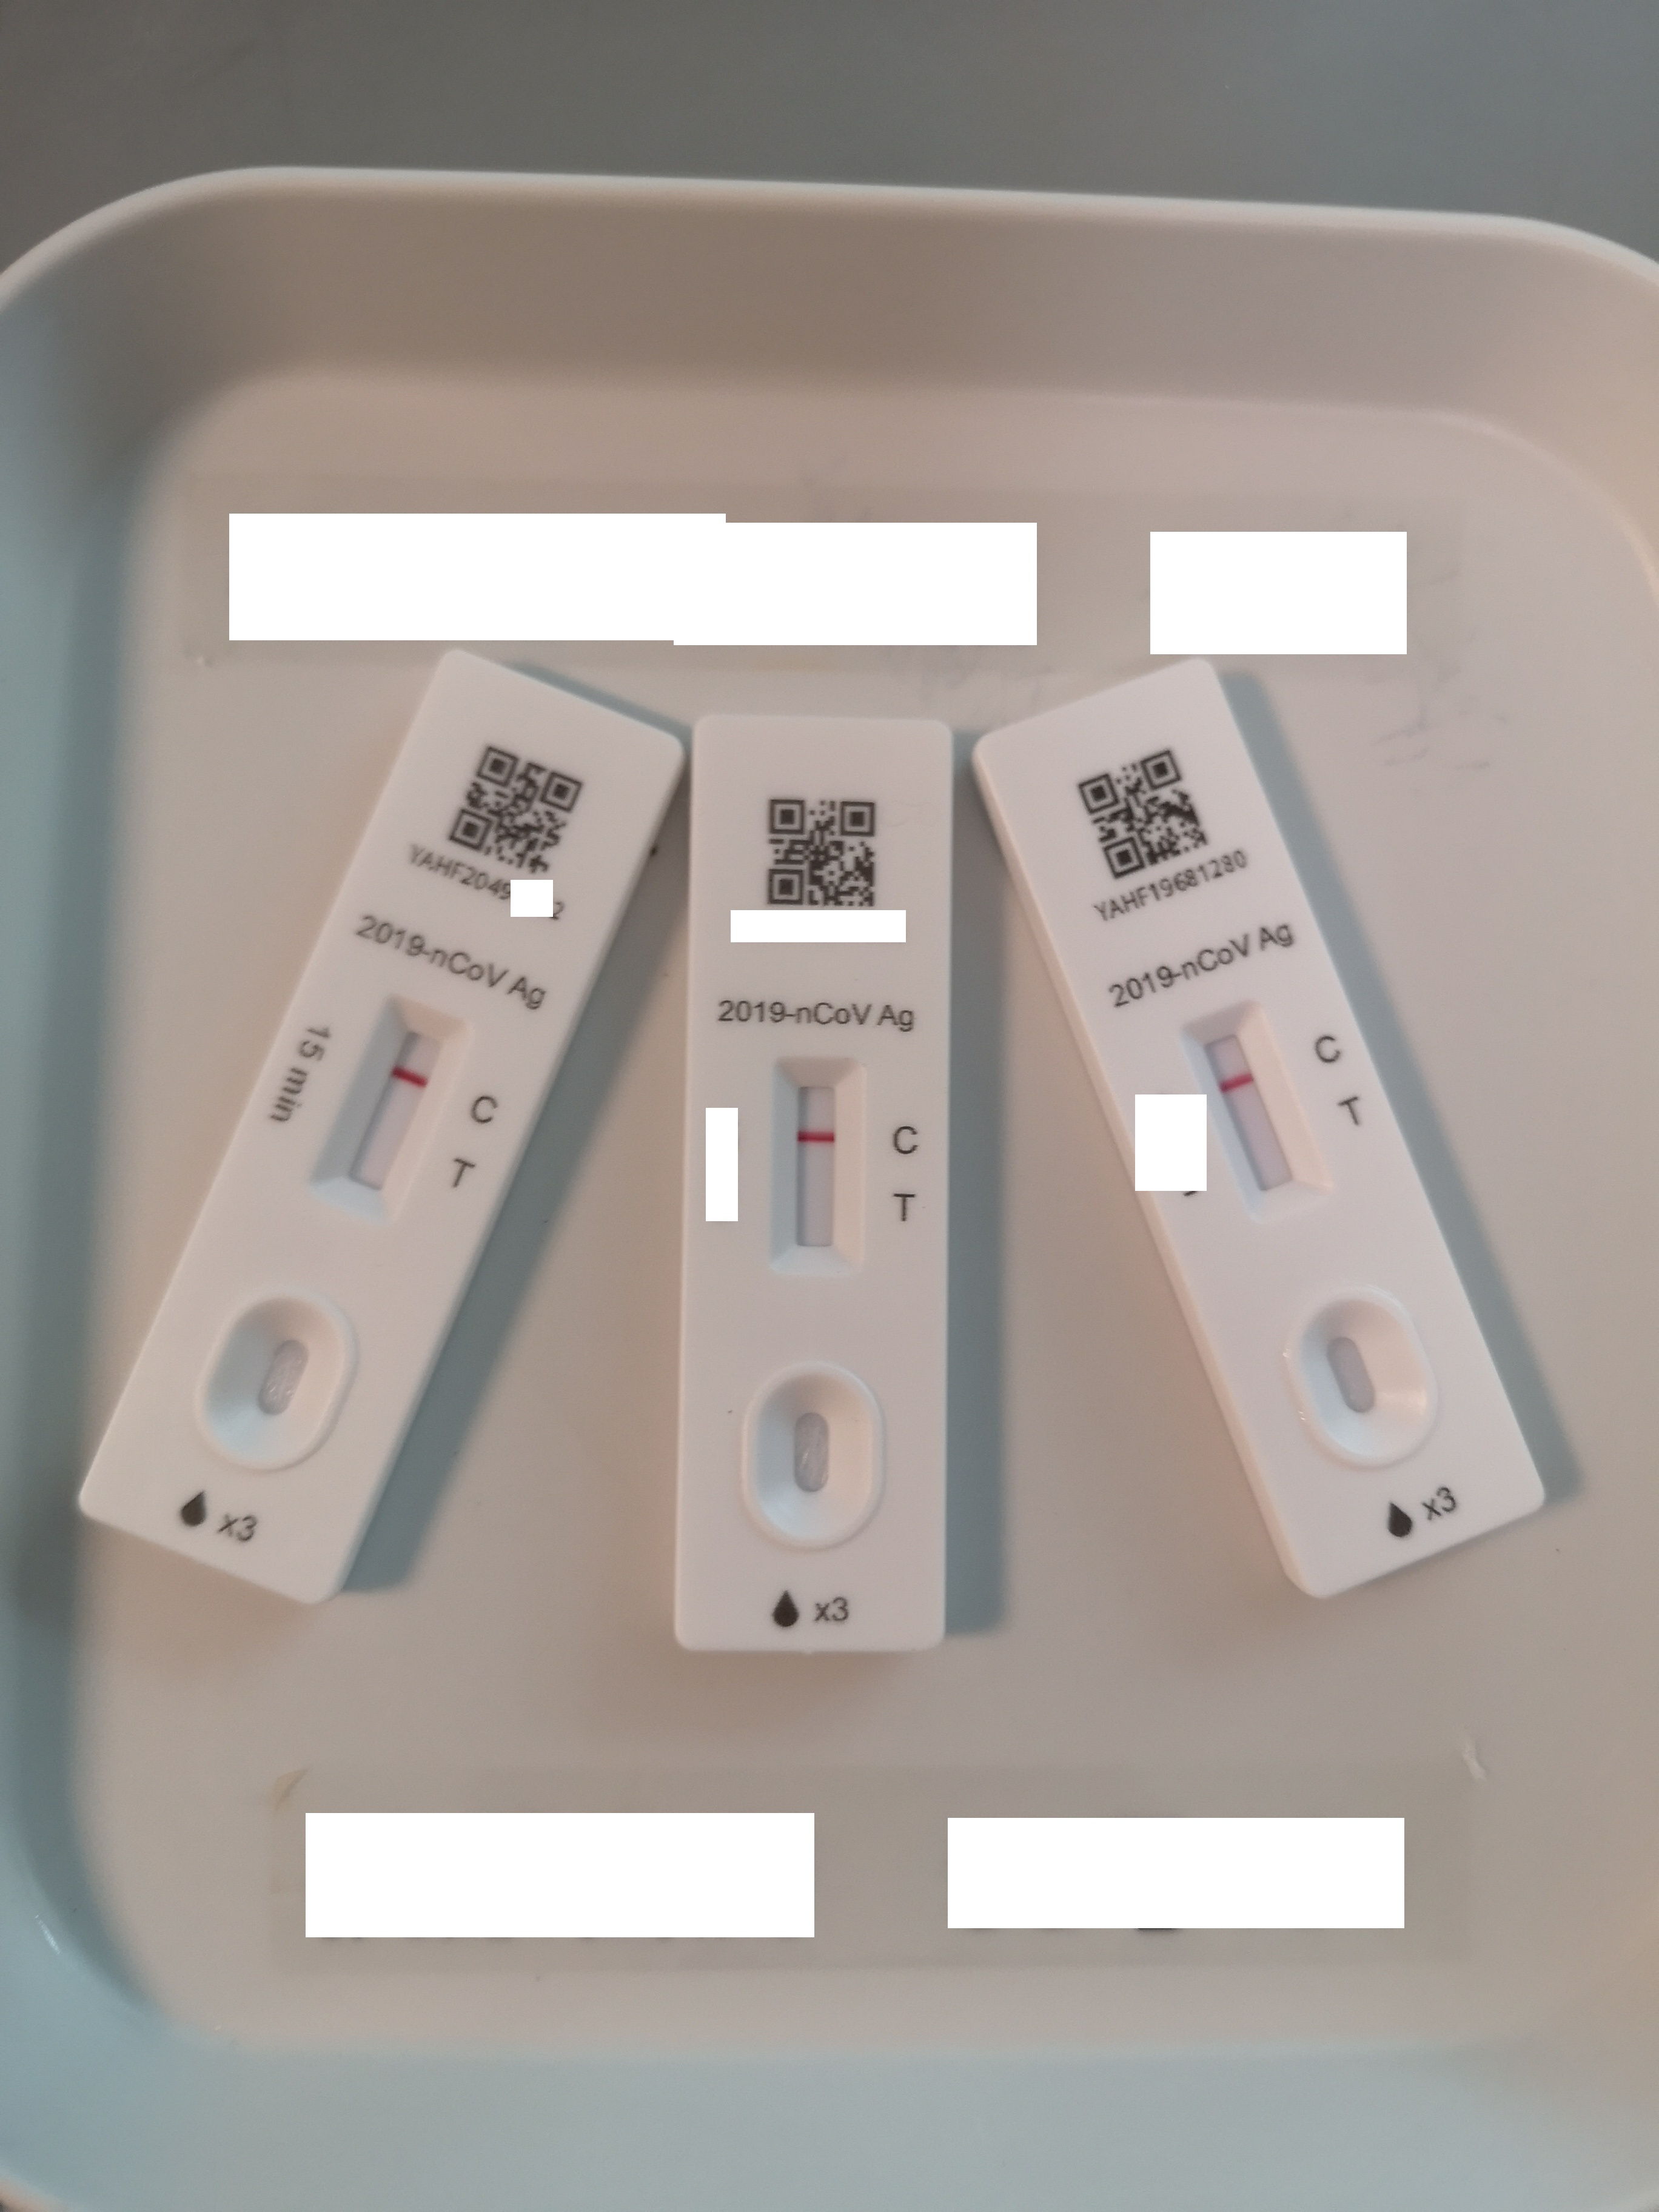negative: (321, 1000, 469, 1204), (1187, 1007, 1326, 1207), (772, 1054, 864, 1268)
